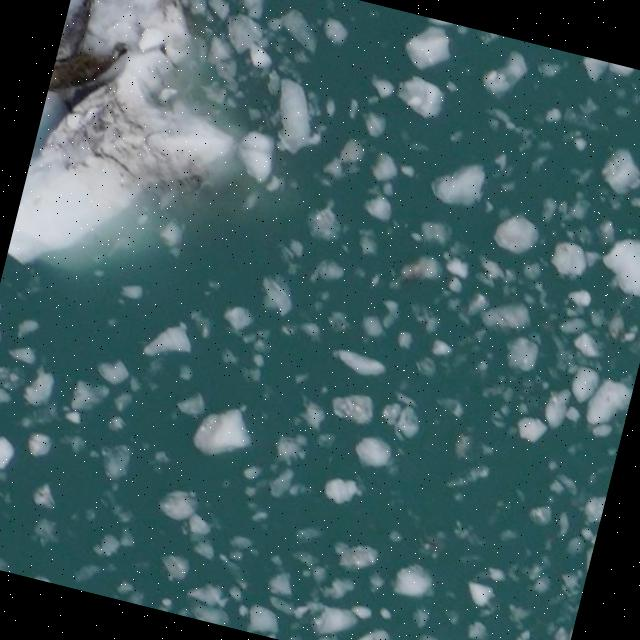seal: (49, 42, 129, 90), (57, 0, 91, 58)
